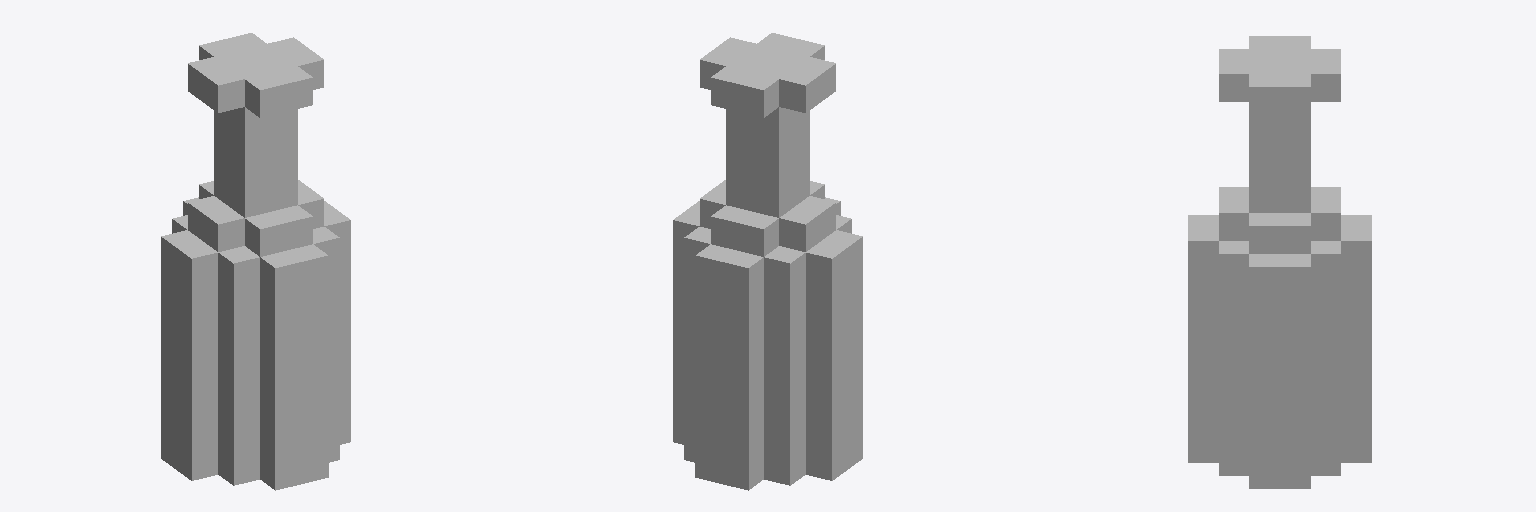
The model's file is bottle.obj.
The picture shows the model from 3 angles: view 1: azimuth 30°, elevation 25°; view 2: azimuth 150°, elevation 25°; view 3: azimuth 270°, elevation 25°; orthographic projection.
Size of the model in its own units: 6 by 14 by 6.